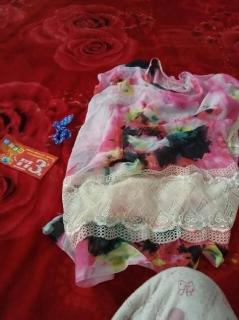long sleeve top: (42, 57, 239, 287)
